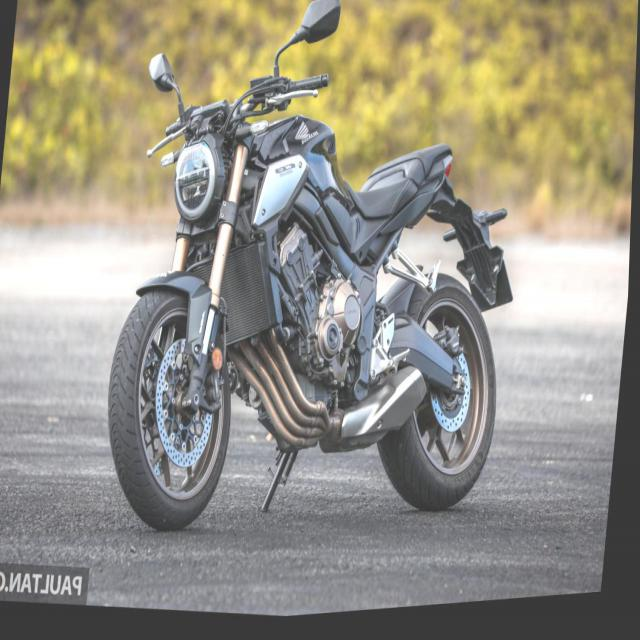CB650R: (99, 71, 532, 587)
